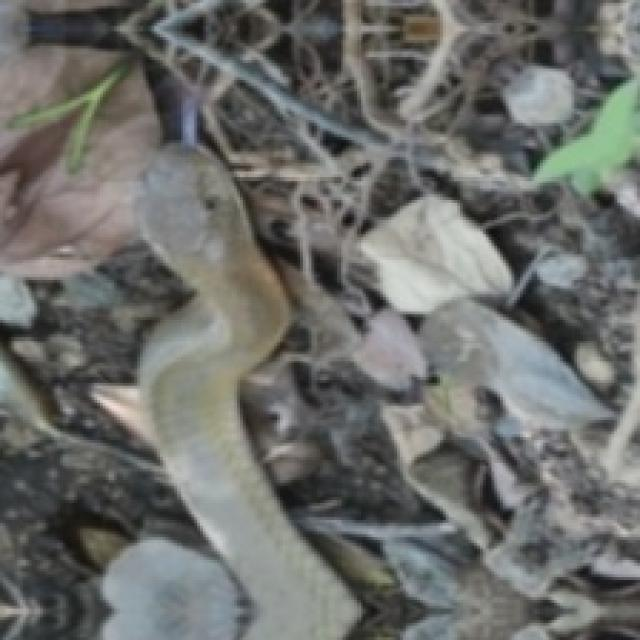king cobra: (137, 143, 360, 637)
